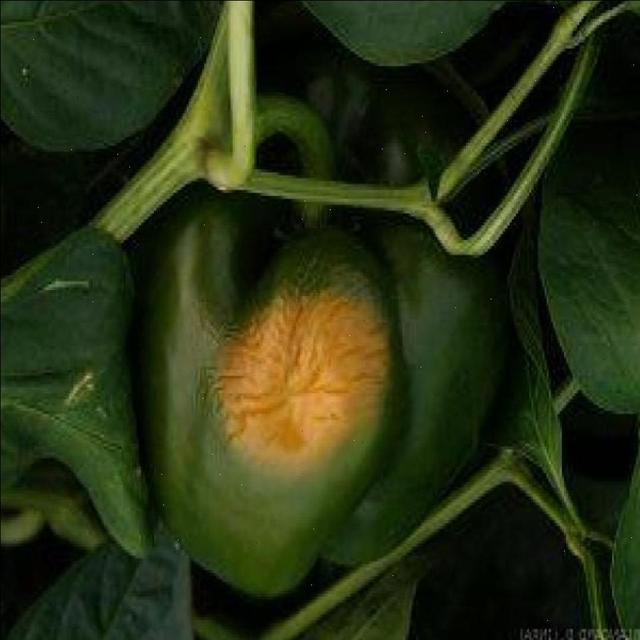Sunscald Fruit: (133, 170, 270, 321)
